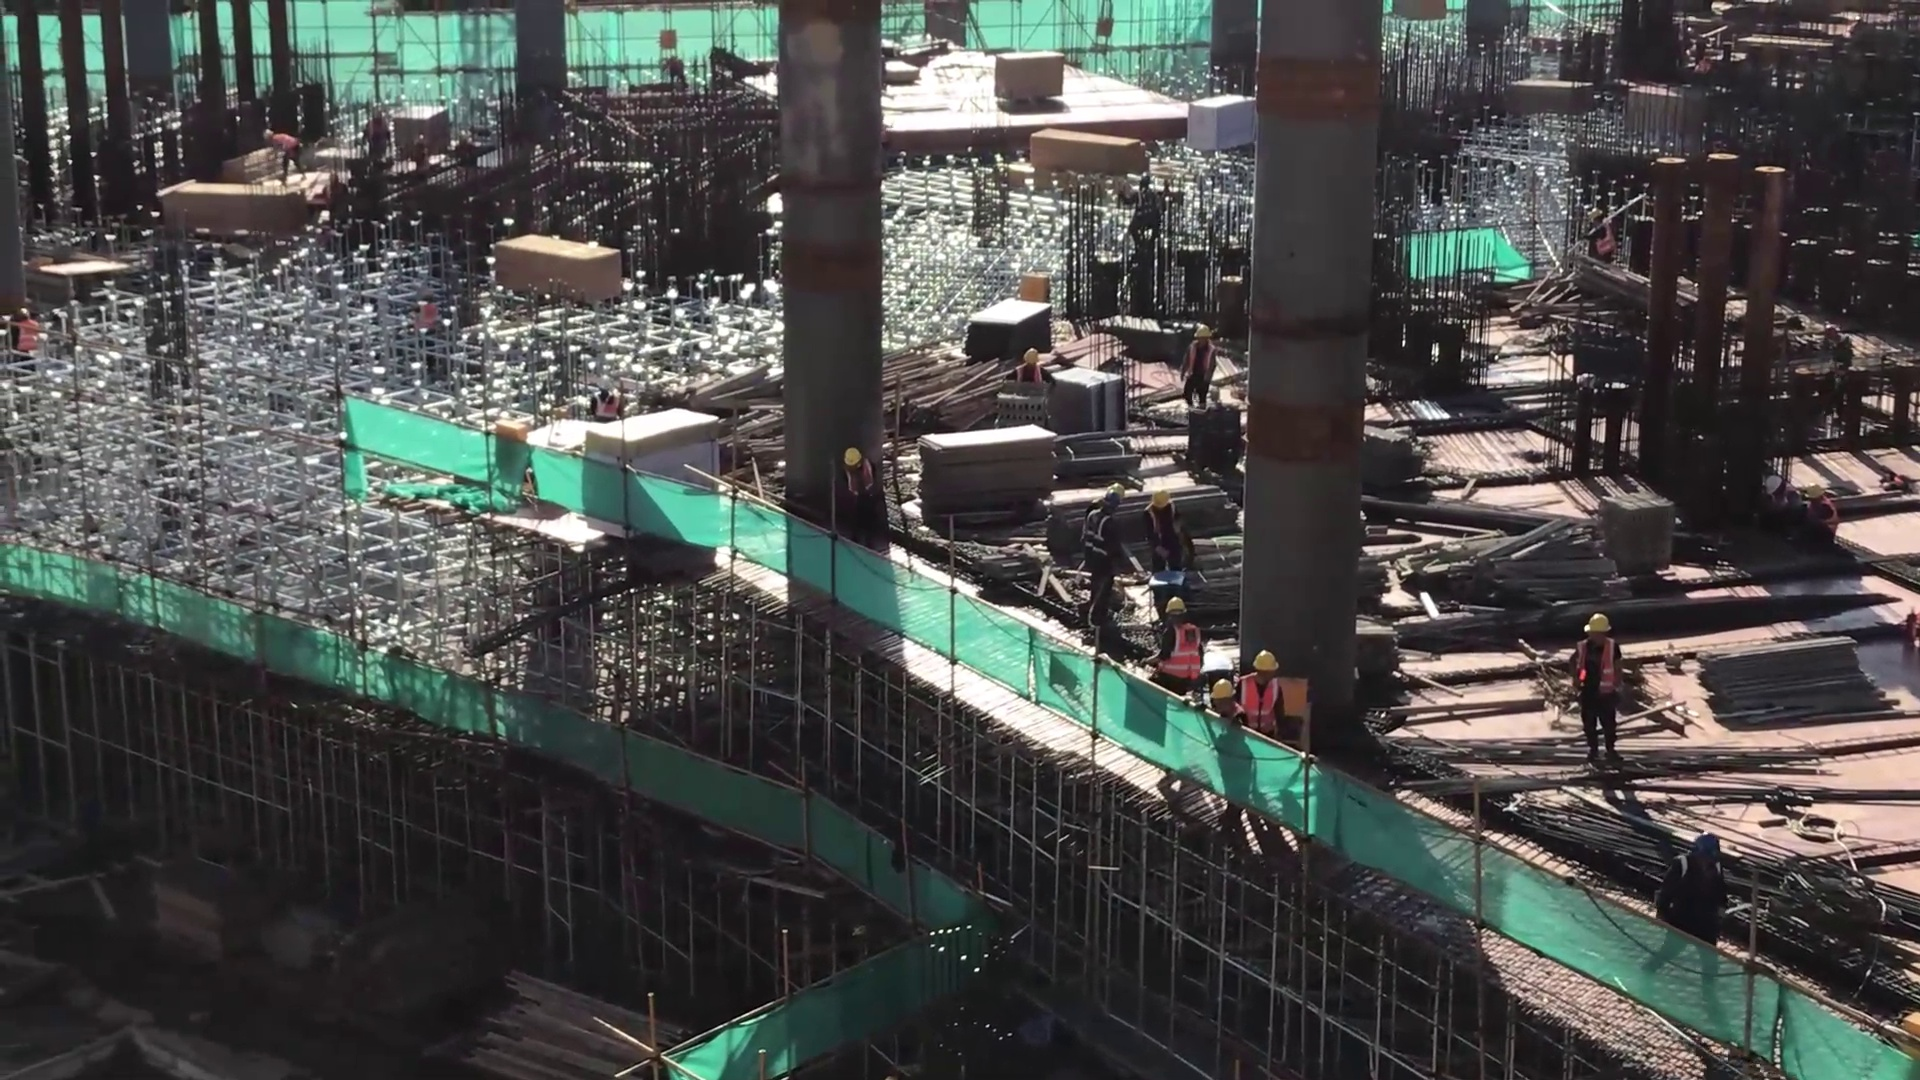ebox: (1005, 265, 1057, 305)
helmet: (1679, 823, 1721, 868), (1205, 675, 1241, 715), (1581, 606, 1615, 644), (1094, 488, 1134, 518), (1160, 590, 1194, 625), (1017, 343, 1043, 372), (1190, 318, 1213, 341), (1146, 490, 1167, 515), (1257, 650, 1280, 671), (838, 447, 856, 466), (599, 376, 612, 390), (258, 127, 273, 140)
person: (1564, 597, 1636, 775), (1648, 822, 1731, 948), (1080, 479, 1127, 631), (1231, 642, 1289, 743), (1149, 590, 1201, 696), (1139, 483, 1195, 573), (832, 440, 880, 543), (1176, 311, 1217, 415), (256, 120, 306, 181), (581, 368, 626, 424), (1009, 339, 1048, 382)
vest: (1569, 638, 1622, 697), (1158, 625, 1197, 685), (1082, 519, 1119, 577), (1246, 677, 1279, 726), (1183, 342, 1211, 385), (844, 465, 871, 499), (590, 391, 620, 418), (273, 131, 301, 157)
wood: (1686, 622, 1891, 742), (1743, 817, 1894, 976), (882, 345, 990, 432)
